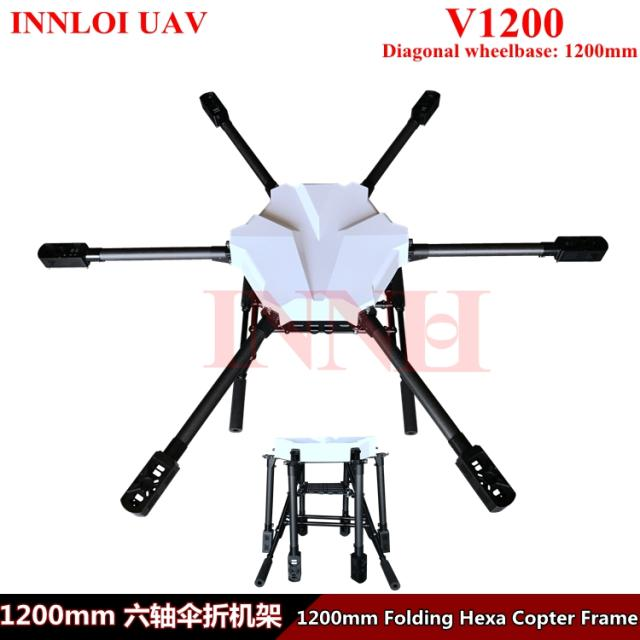drone: (13, 74, 640, 586)
